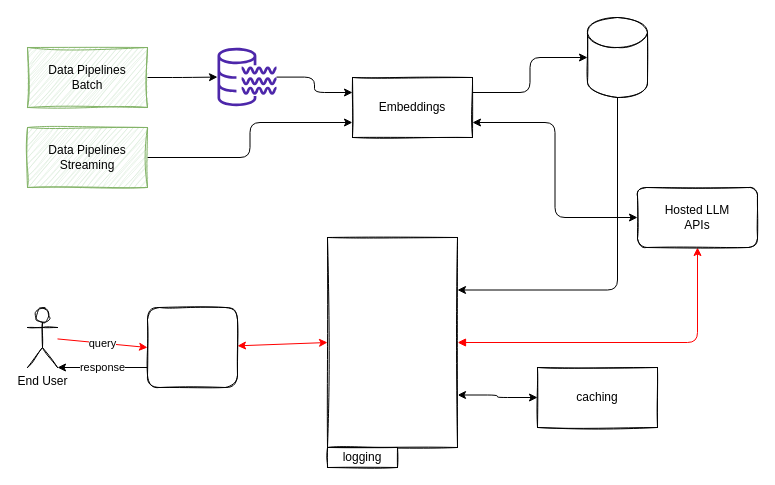
Image size: 775x485. Some labels were removed from this diagram. The centre of each missing label's shape, as x and y in pixels:
"App Orchestrator" goes at [392,342].
"ChatBot Q&A UI" goes at [192,347].
"Vector Store" goes at [617,57].
